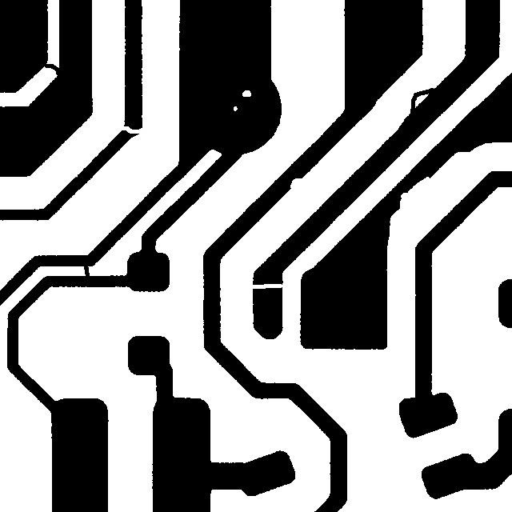mousebite: (392, 169, 437, 216), (282, 170, 310, 196)
open: (241, 276, 290, 297), (114, 118, 151, 141)
pin-hole: (234, 82, 258, 104)
short: (34, 53, 71, 83), (76, 254, 97, 287)
spur: (402, 80, 442, 122), (391, 390, 427, 421)
